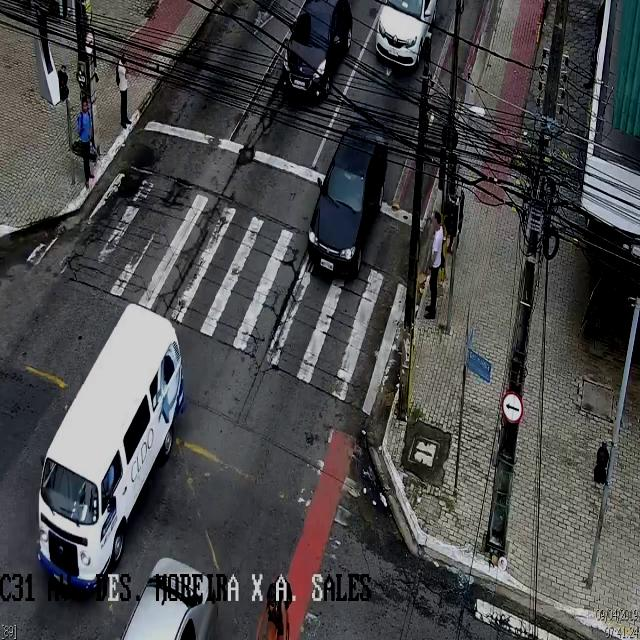Car: (38, 305, 180, 592), (307, 122, 387, 284), (104, 555, 223, 640), (284, 3, 347, 97), (376, 0, 438, 68)
